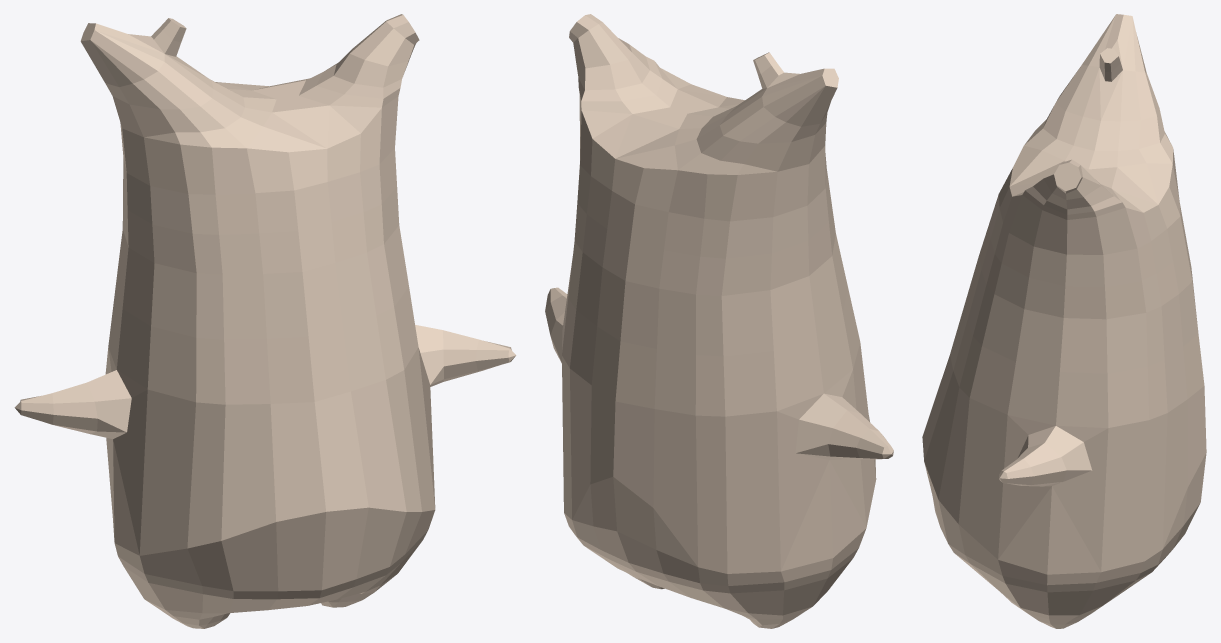
Rendered from frame_0072.obj.
3 views of the same model, side by side, from view 1: azimuth 30°, elevation 25°; view 2: azimuth 150°, elevation 25°; view 3: azimuth 270°, elevation 25° (orthographic). The views are drawn at different scales.
Visible parts, largest first — view 1: korok; view 2: korok; view 3: korok.
Boxes of the visible parts, <box> form: korok: <box>14,14,516,628</box>; korok: <box>545,14,893,628</box>; korok: <box>922,14,1206,628</box>.
Bounding box in the file's own units: 1.57 × 2.15 × 1.05.
